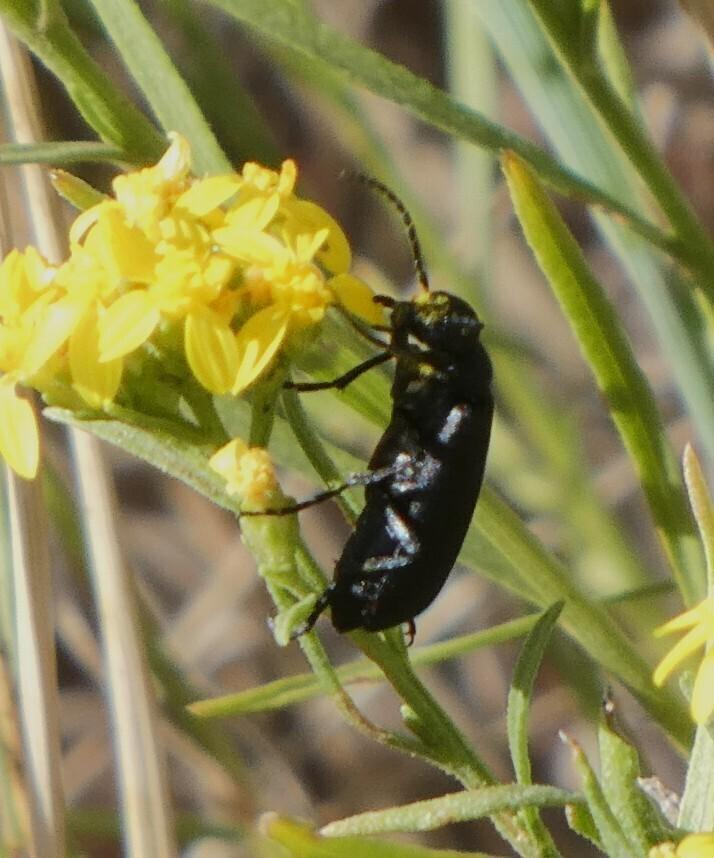blister_beetle: (212, 141, 567, 734)
